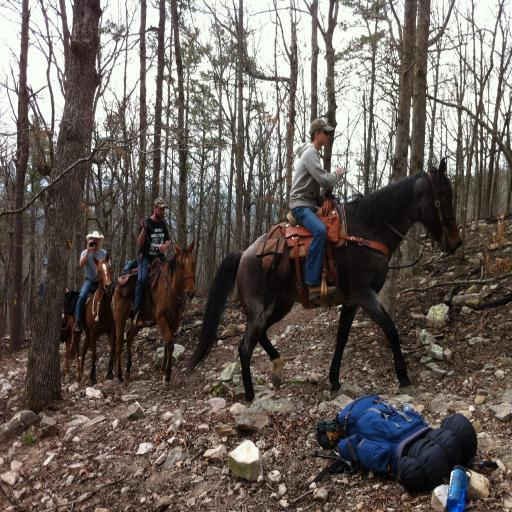horse: (180, 154, 463, 406), (112, 239, 198, 388), (70, 251, 114, 387), (59, 292, 82, 383)
